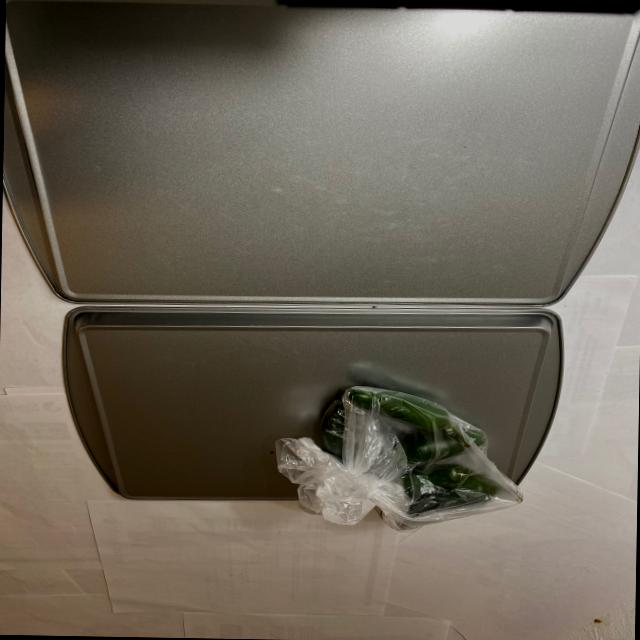chilli: (318, 386, 526, 528)
